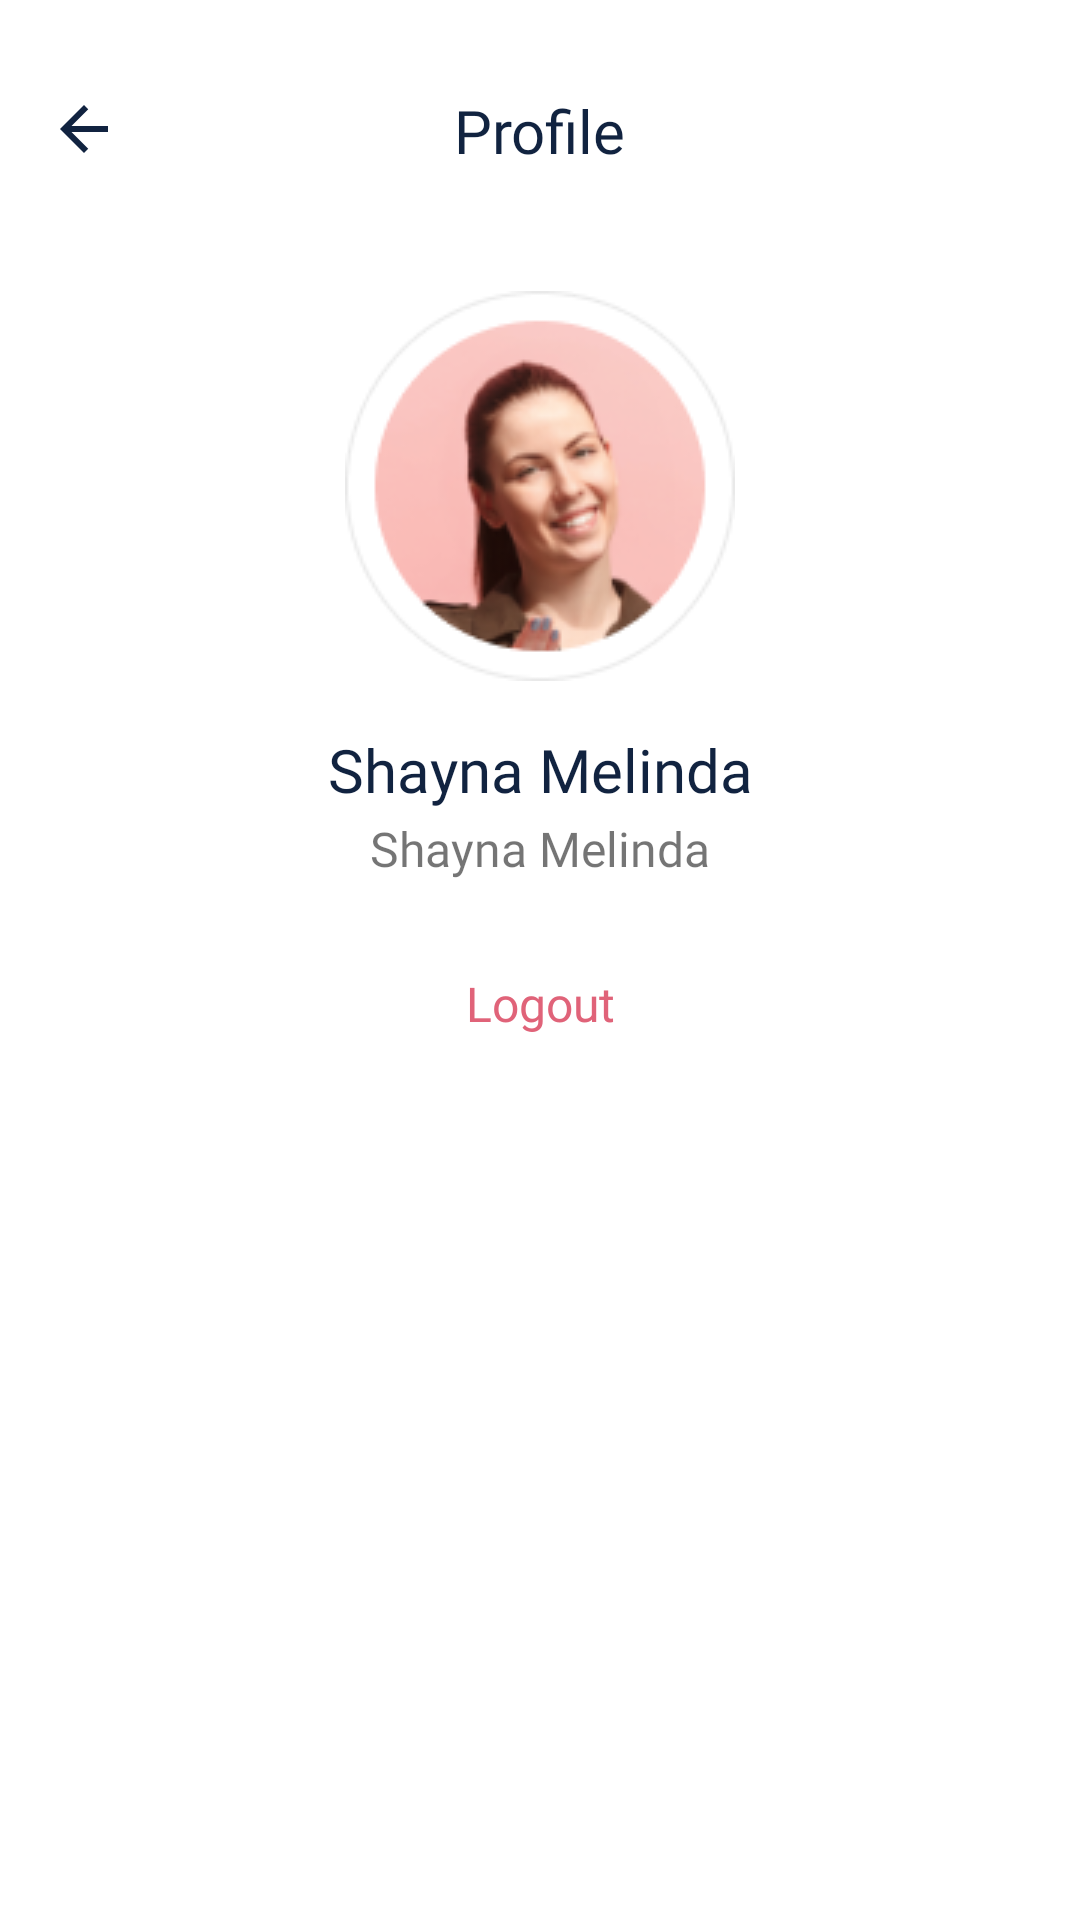

Named icons in this screenshot (1080*1920) and their bounding boxes, {"left": x1, "top": y1, "right": x2, "bottom": y2}:
arrow: {"left": 60, "top": 105, "right": 108, "bottom": 153}
